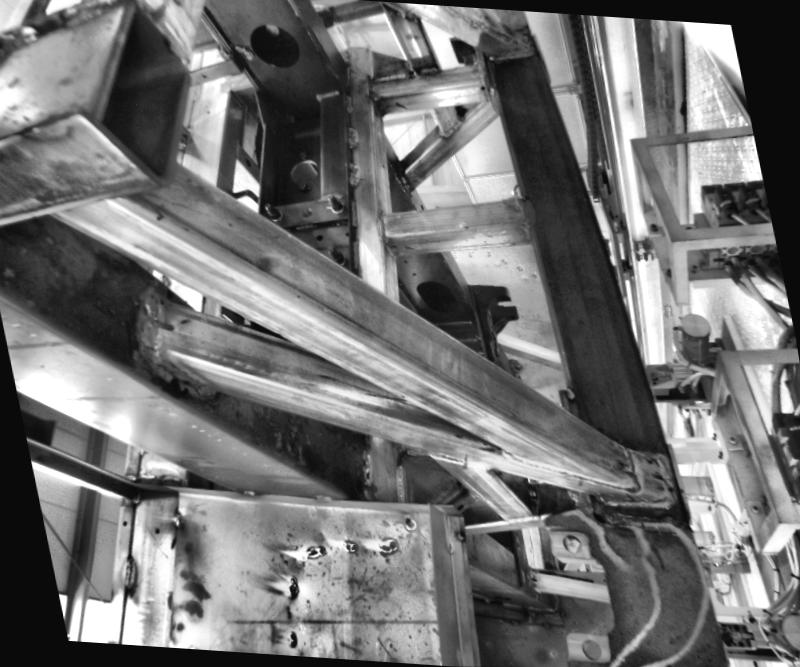bolt: (322, 192, 343, 216), (262, 200, 282, 222), (324, 244, 344, 266)
bracket: (466, 276, 526, 371)
hole: (247, 20, 301, 72), (413, 276, 463, 317), (284, 157, 320, 186), (579, 639, 603, 661), (559, 534, 584, 554), (149, 316, 175, 334), (295, 204, 314, 218), (152, 527, 162, 537), (652, 472, 662, 482), (314, 233, 324, 242), (121, 518, 128, 528), (477, 84, 485, 91), (388, 242, 397, 248), (380, 164, 384, 170), (410, 271, 415, 275), (404, 261, 409, 265), (344, 231, 348, 235), (420, 204, 422, 209)
welding: (141, 294, 176, 364), (591, 494, 688, 512), (660, 454, 678, 510), (624, 442, 639, 494), (118, 554, 138, 592), (518, 198, 536, 226), (344, 160, 360, 184), (236, 487, 260, 502), (344, 126, 358, 148), (376, 212, 386, 242), (310, 493, 336, 504), (344, 95, 354, 114), (173, 514, 184, 526)
